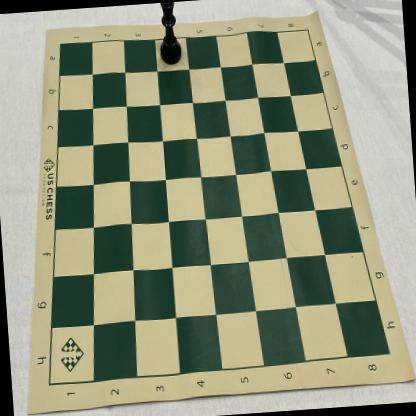king: (157, 2, 183, 66)
